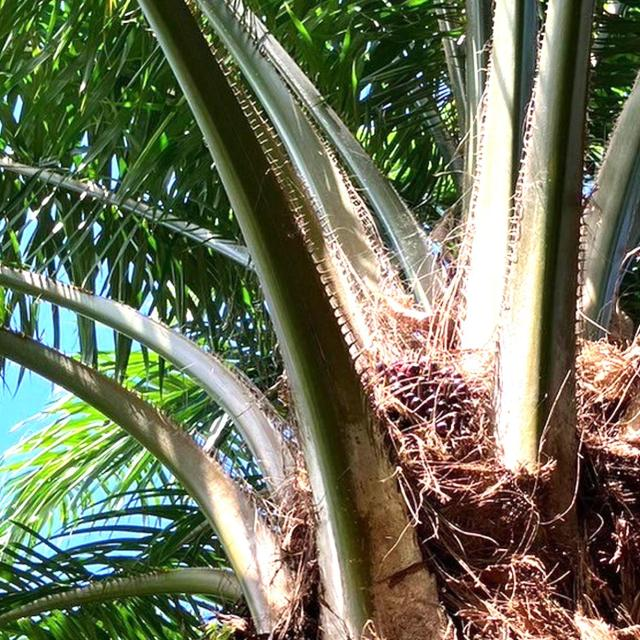ripe: (347, 345, 506, 499)
